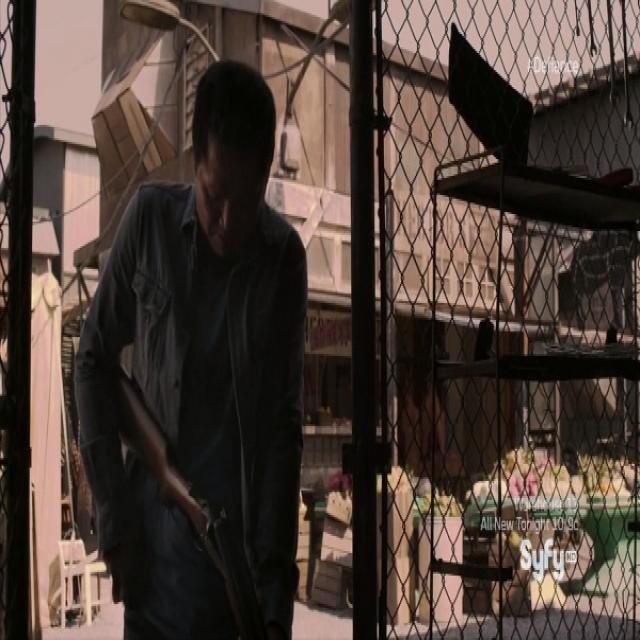rifle: (115, 369, 256, 640)
